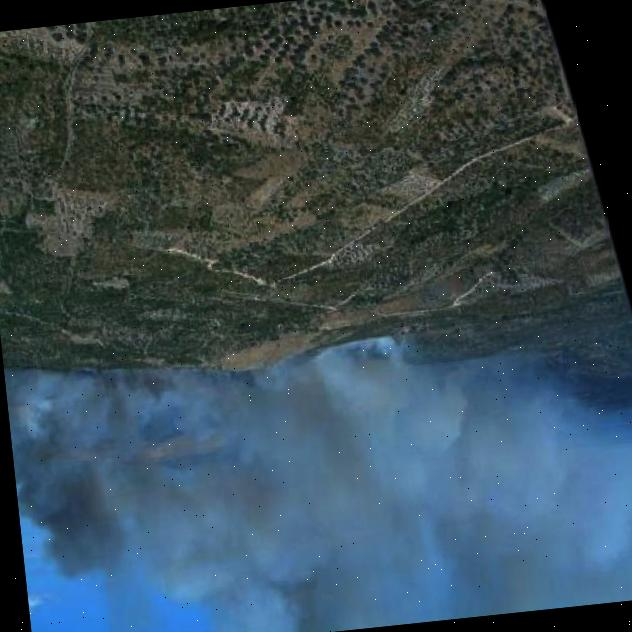smoke: (4, 307, 632, 632)
